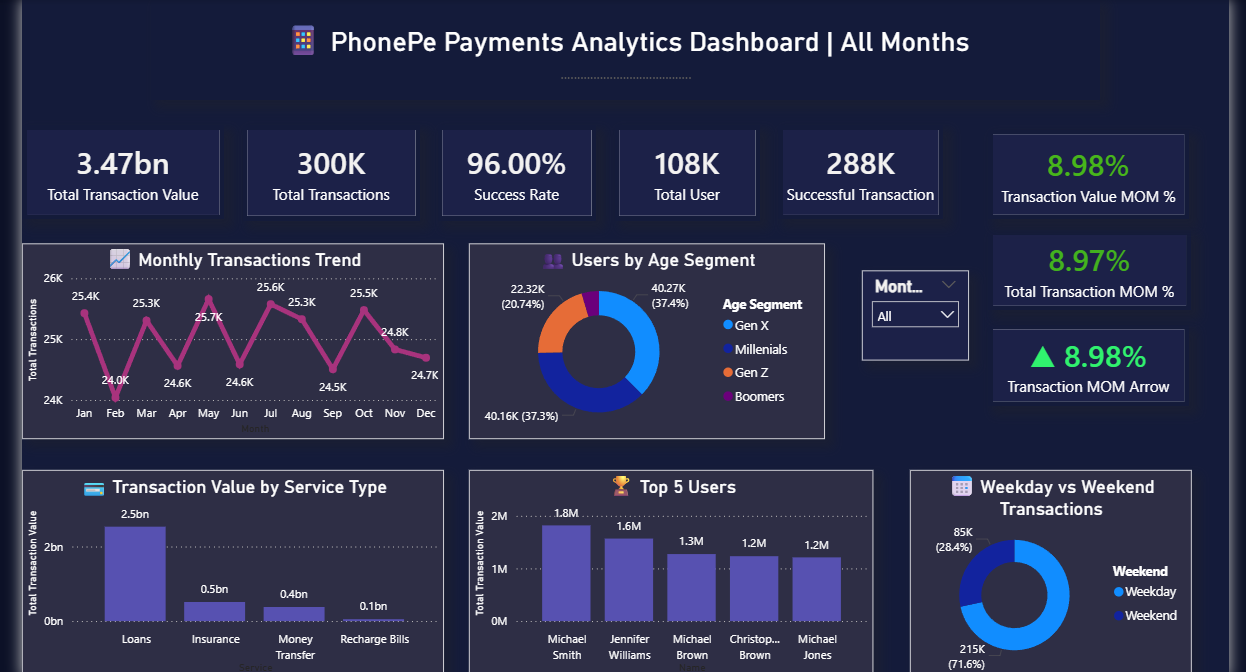

Layout of this report page (visuals, bound fields, positions):
{"tool":"powerbi","page":{"name":"Page 1","canvas":[1280,720],"ordinal":0},"visuals":[{"type":"cardVisual","fields":{"Data":["Measures (2).Total Transaction Value"]},"box":[0,133.6,214.7,100.2],"z":0},{"type":"cardVisual","fields":{"Data":["Measures (2).Total Transactions"]},"box":[233.5,133.8,188.7,101.2],"z":1000},{"type":"cardVisual","fields":{"Data":["Measures (2).Success Rate"]},"box":[440.9,133.8,168.1,101.2],"z":2000},{"type":"cardVisual","fields":{"Data":["Measures (2).Total User"]},"box":[627.7,133.8,154.4,101.2],"z":3000},{"type":"slicer","fields":{"Values":["Date_Table.Month"]},"box":[890,288.3,113.3,95],"z":4000},{"type":"cardVisual","fields":{"Data":["Measures (2).Total Transaction MOM %"]},"box":[1025,245,215,85],"z":5000},{"type":"cardVisual","fields":{"Data":["Measures (2).Transaction Value MOM %"]},"box":[1025,138.3,213.3,95],"z":6000},{"type":"lineChart","title":"📈 Monthly Transactions Trend","fields":{"Category":["Date_Table.Month"],"Y":["Measures (2).Total Transactions"]},"box":[0,259,447.6,207.5],"z":7000},{"type":"columnChart","title":"💳 Transaction Value by Service Type","fields":{"Category":["All_Transactions.Service"],"Y":["Measures (2).Total Transaction Value"]},"box":[0,499.1,447.6,221.2],"z":8000},{"type":"donutChart","title":"👥 Users by Age Segment","fields":{"Category":["All_Users.Age Segment"],"Y":["CountNonNull(All_Users.User_ID)"]},"box":[473.4,259,377.3,207.5],"z":9000},{"type":"donutChart","title":"📅 Weekday vs Weekend Transactions","fields":{"Category":["Date_Table.Weekend"],"Y":["Measures (2).Total Transactions"]},"box":[941.6,499.1,298.4,221.2],"z":10000},{"type":"columnChart","title":"🏆 Top 5 Users ","fields":{"Category":["All_Users.Name"],"Y":["Measures (2).Total Transaction Value"]},"box":[473.4,499.1,428.8,221.2],"z":11000},{"type":"cardVisual","fields":{"Data":["Measures (2).Transaction MOM Arrow"]},"box":[1025,345,213.3,86.7],"z":12000},{"type":"card","fields":{"Values":["Measures (2)........................................."]},"box":[136.7,0,1006.7,106.7],"z":13000},{"type":"cardVisual","fields":{"Data":["Measures (2).Successful Transaction"]},"box":[801.7,133.3,175,100],"z":14000}]}

Visuals, with their boxes on the page's 1280x720 design canvas (x1, y1, x2, y2). These are canvas units, not pixel positions in the 1246x672 screenshot, which may show the page scaled, cropped or inside an application window:
cardVisual - Measures (2).Total Transaction Value: select_region(0, 134, 215, 234)
cardVisual - Measures (2).Total Transactions: select_region(234, 134, 422, 235)
cardVisual - Measures (2).Success Rate: select_region(441, 134, 609, 235)
cardVisual - Measures (2).Total User: select_region(628, 134, 782, 235)
slicer - Date_Table.Month: select_region(890, 288, 1003, 383)
cardVisual - Measures (2).Total Transaction MOM %: select_region(1025, 245, 1240, 330)
cardVisual - Measures (2).Transaction Value MOM %: select_region(1025, 138, 1238, 233)
"📈 Monthly Transactions Trend" lineChart: select_region(0, 259, 448, 466)
"💳 Transaction Value by Service Type" columnChart: select_region(0, 499, 448, 720)
"👥 Users by Age Segment" donutChart: select_region(473, 259, 851, 466)
"📅 Weekday vs Weekend Transactions" donutChart: select_region(942, 499, 1240, 720)
"🏆 Top 5 Users " columnChart: select_region(473, 499, 902, 720)
cardVisual - Measures (2).Transaction MOM Arrow: select_region(1025, 345, 1238, 432)
card - Measures (2).........................................: select_region(137, 0, 1143, 107)
cardVisual - Measures (2).Successful Transaction: select_region(802, 133, 977, 233)
